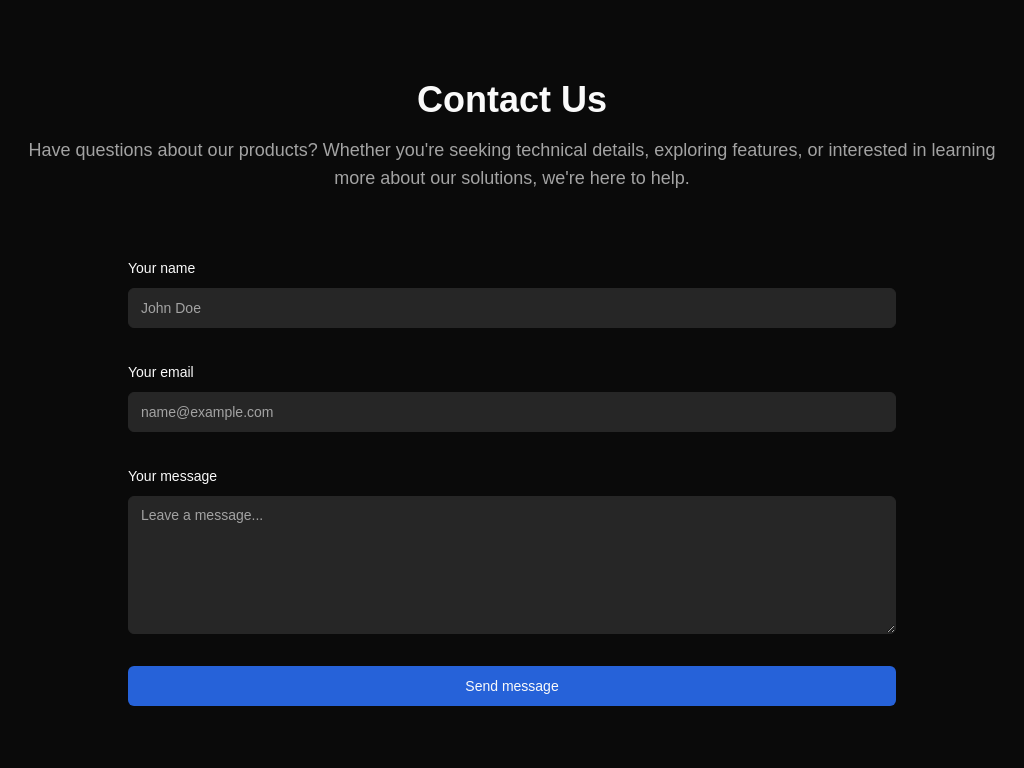
it: ContactForm Component › submits form with valid input
Type "Test User" into the field with test id "name-input".
click(512, 308); type("Test User")  # box left=128, top=288, right=896, bottom=328
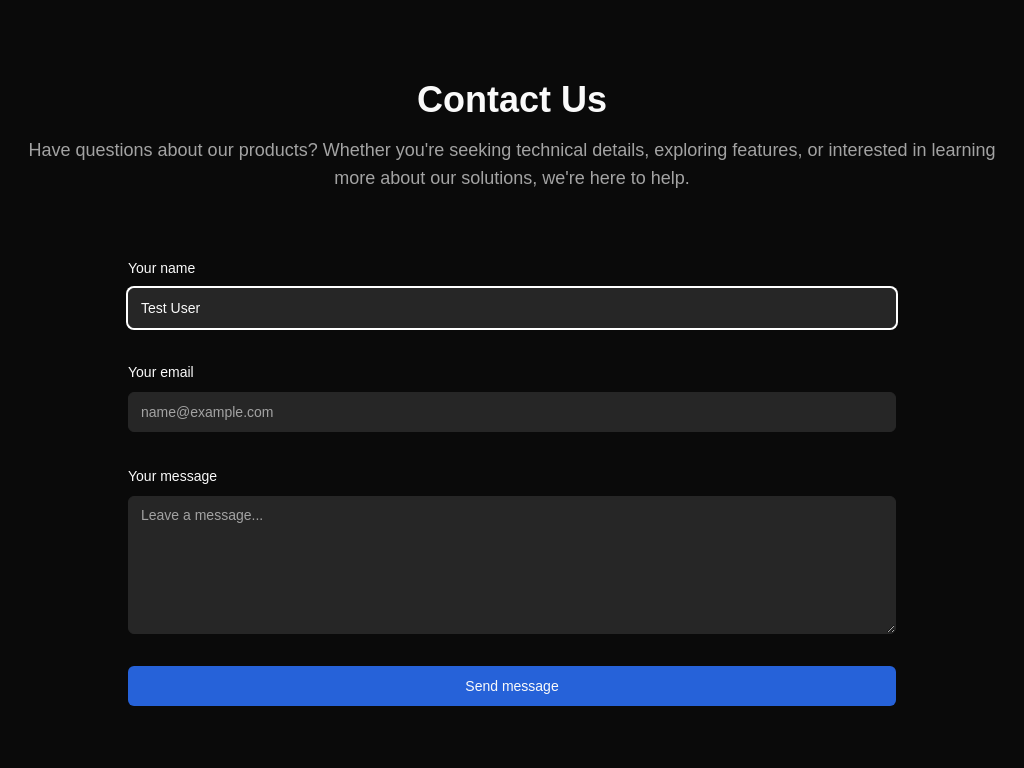
Type "test@example.com" into the field with test id "email-input".
click(512, 412); type("test@example.com")  # box left=128, top=392, right=896, bottom=432
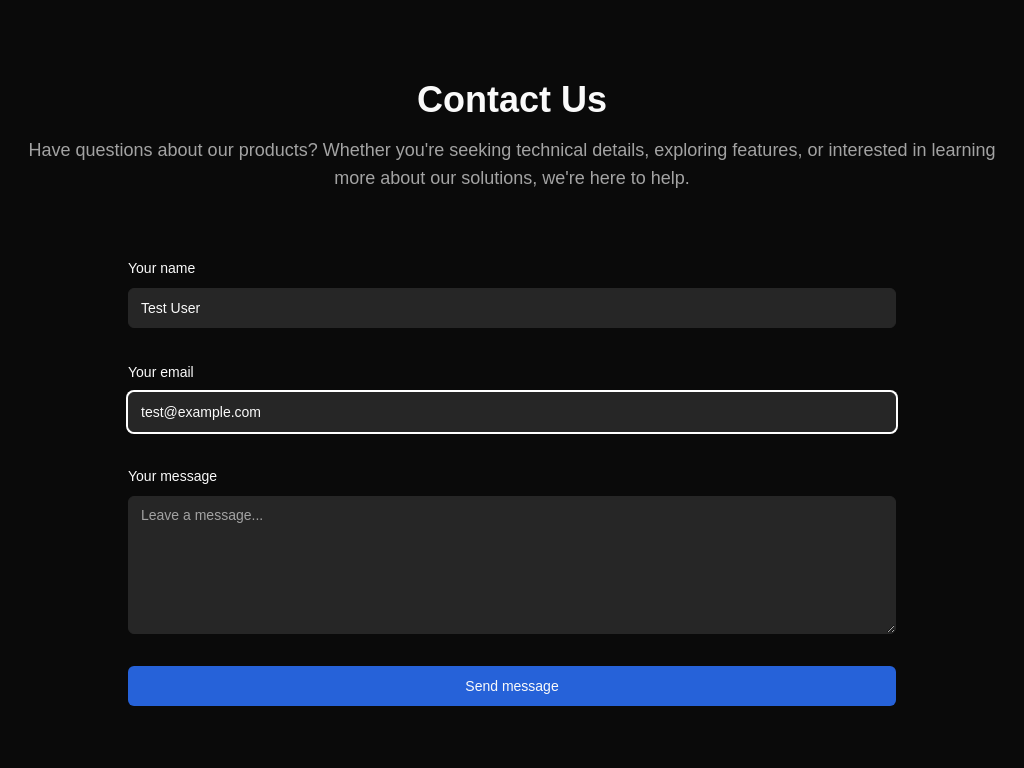
Type "Test message" into the text box with test id "message-input".
click(512, 565); type("Test message")  # box left=128, top=496, right=896, bottom=634
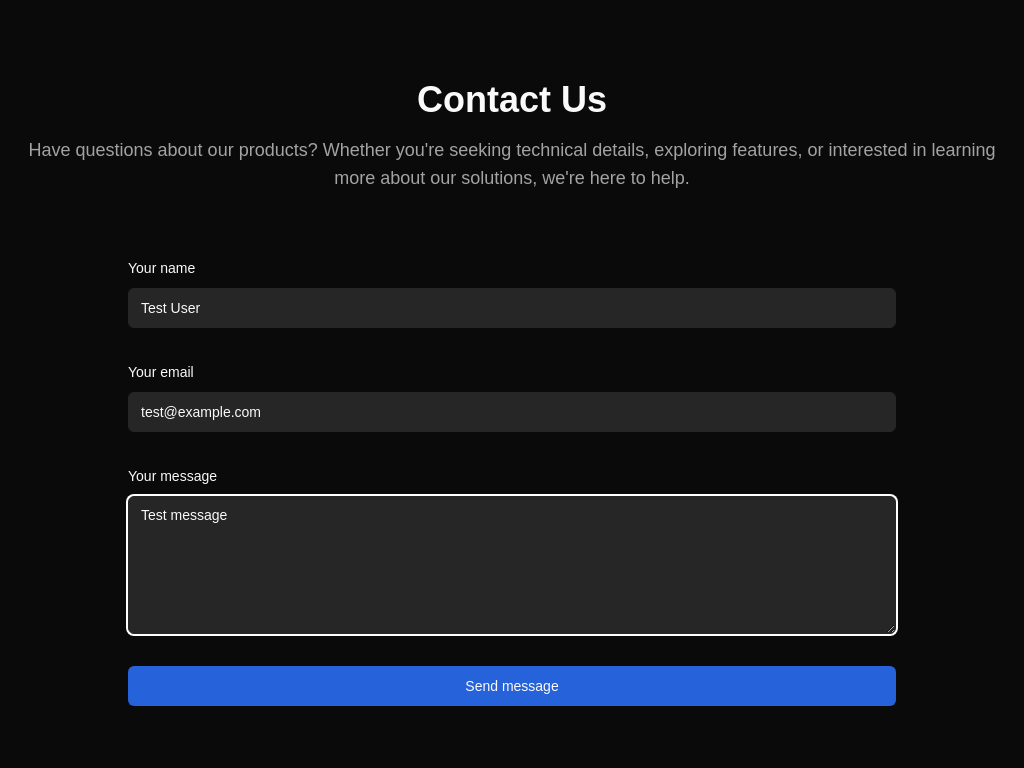
Click the button with test id "send-button".
click(512, 686)  # box left=128, top=666, right=896, bottom=706
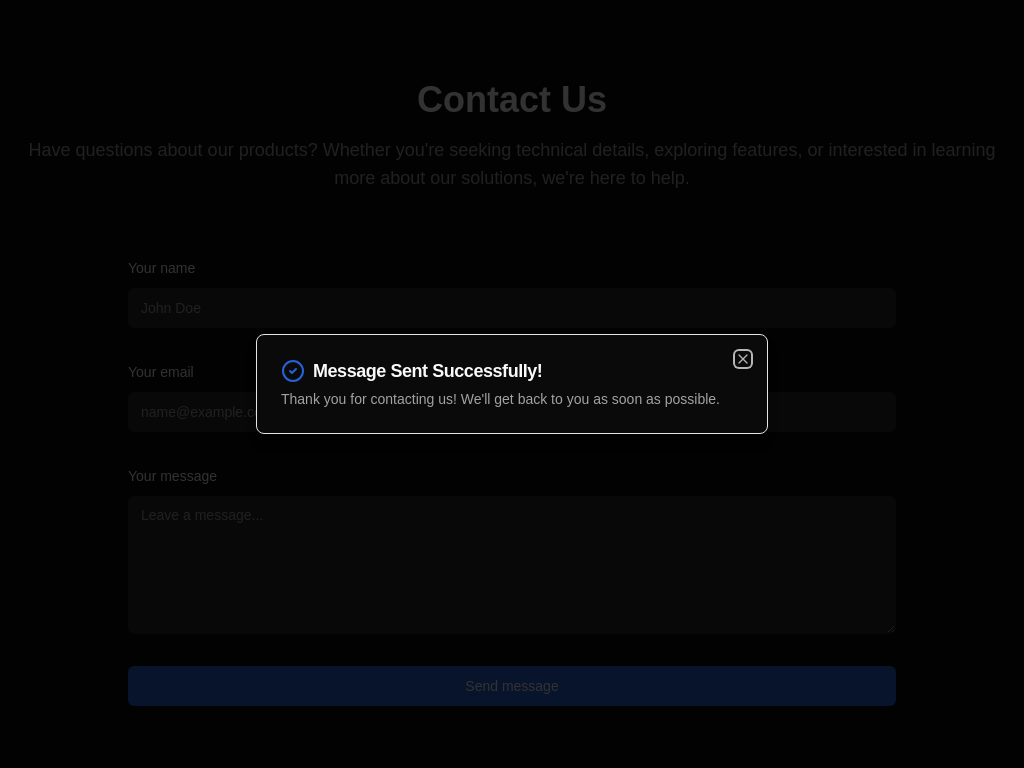
Check: the heading "Message Sent Successfully!" is shown, box left=281, top=359, right=542, bottom=383
